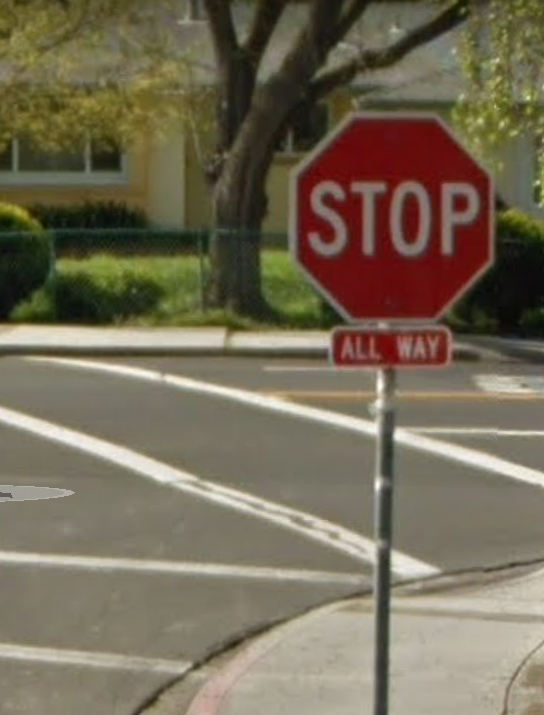stop_sign: (290, 114, 493, 321)
